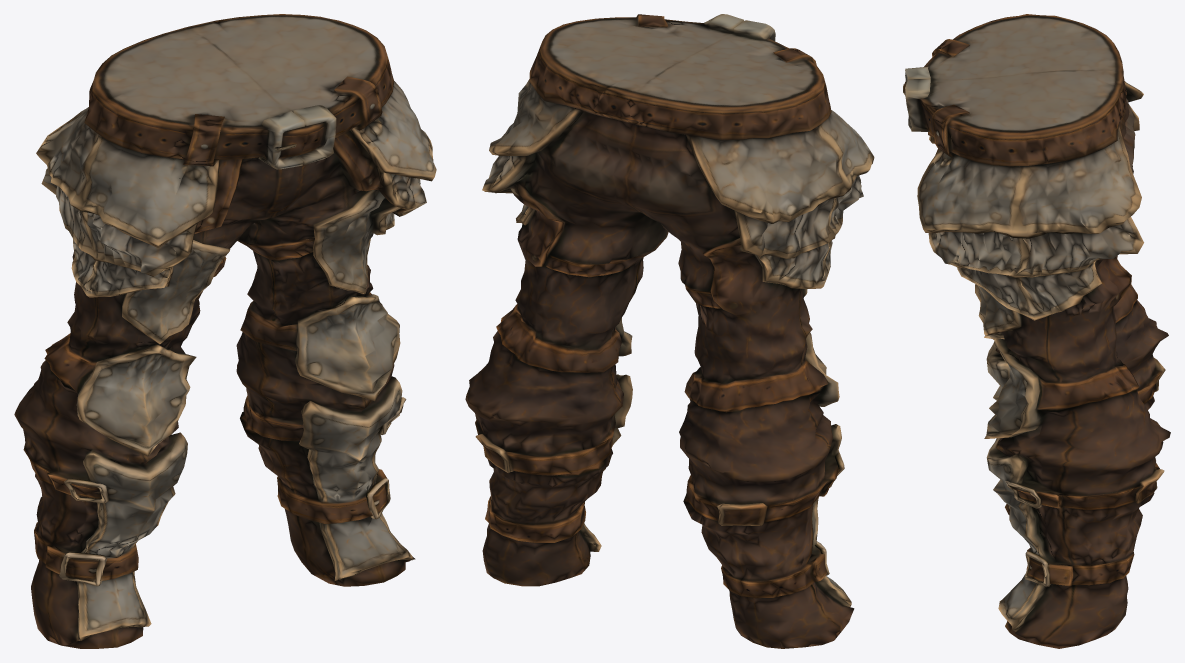
The model's file is ruestung.beine.eisenschienen.glb.
3 views of the same model, side by side, from view 1: azimuth 30°, elevation 25°; view 2: azimuth 150°, elevation 25°; view 3: azimuth 270°, elevation 25° (orthographic). The views are drawn at different scales.
Visible parts, largest first — view 1: geometry_0; view 2: geometry_0; view 3: geometry_0.
Part boxes in pixels (bbox=[...]): geometry_0: bbox=[14, 14, 436, 648]; geometry_0: bbox=[465, 14, 874, 648]; geometry_0: bbox=[903, 14, 1170, 648].
Size of the model in its own units: 0.5881 by 0.867 by 0.4199.
Materials: 1 (1 with a texture image).
